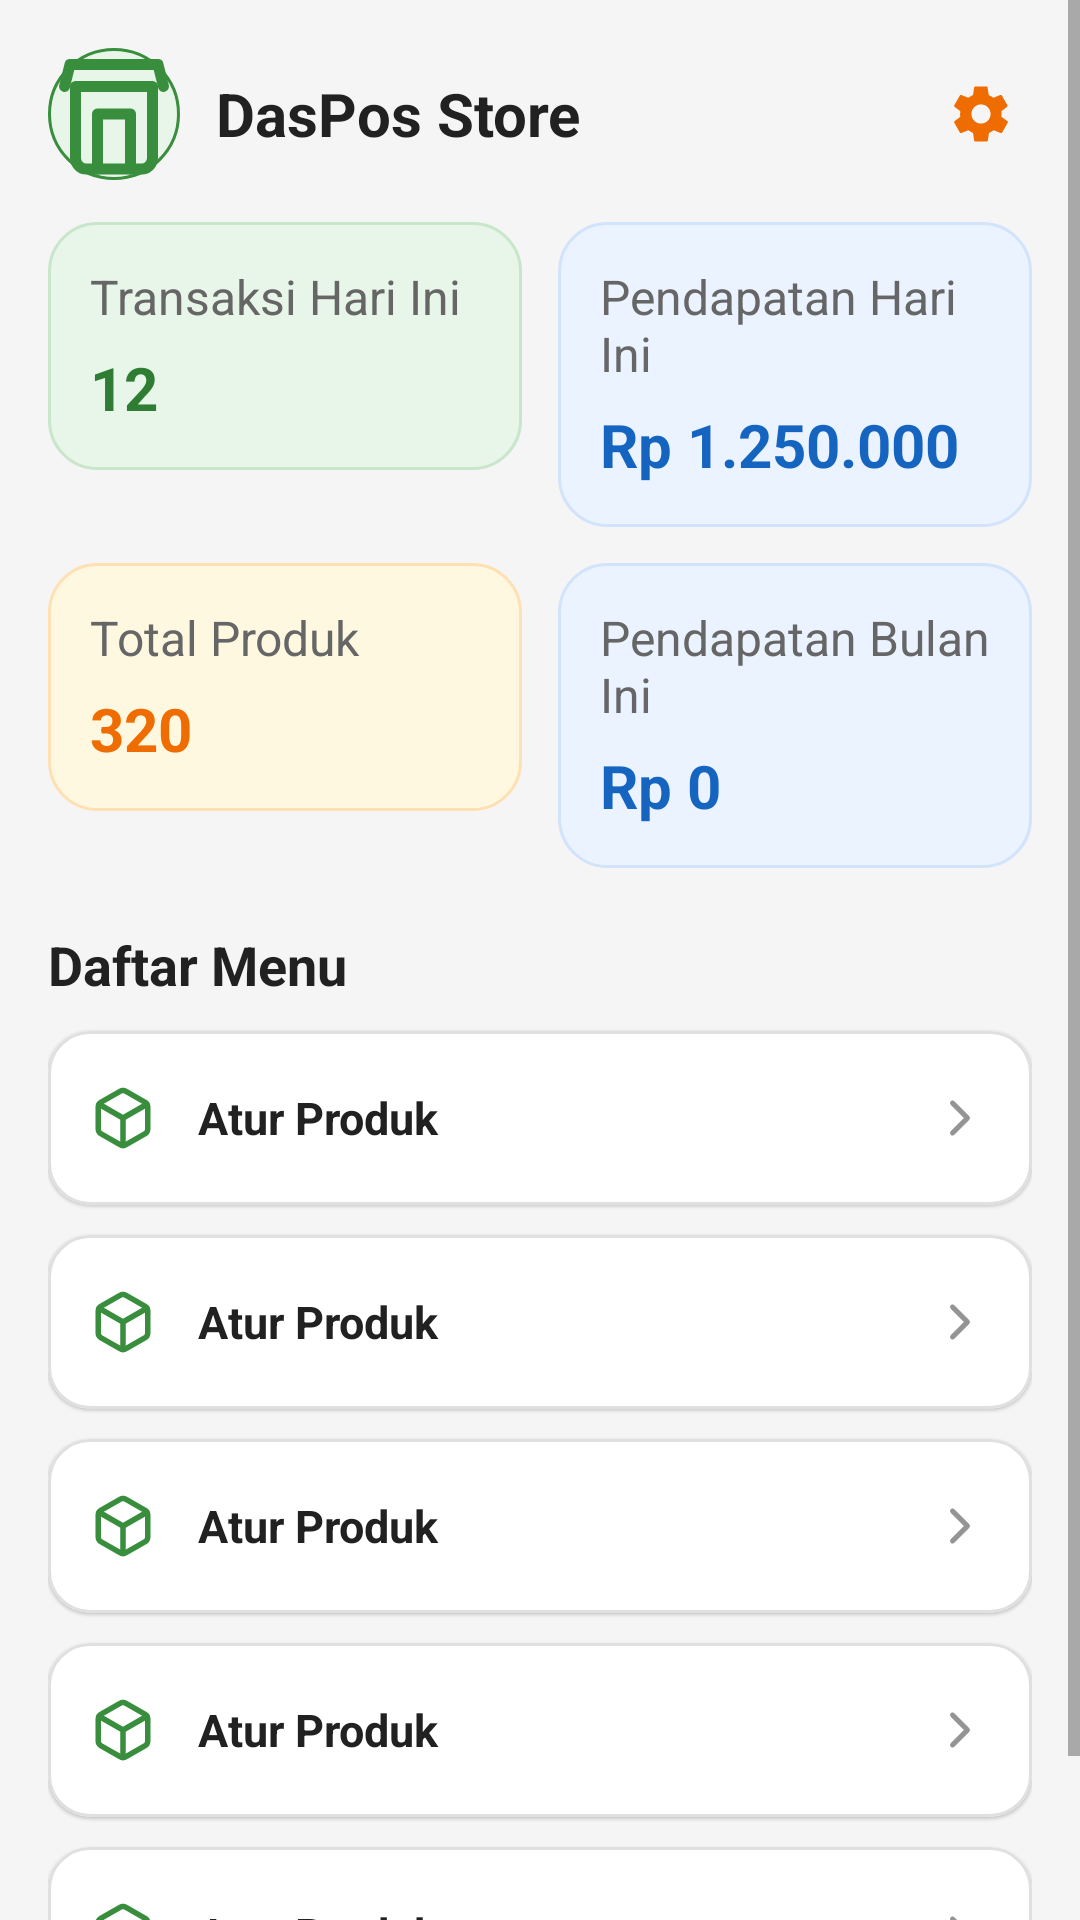

Point at icon controls on the screen. Image size 1080×1920, points as point (x, y).
setting: point (981, 114)
